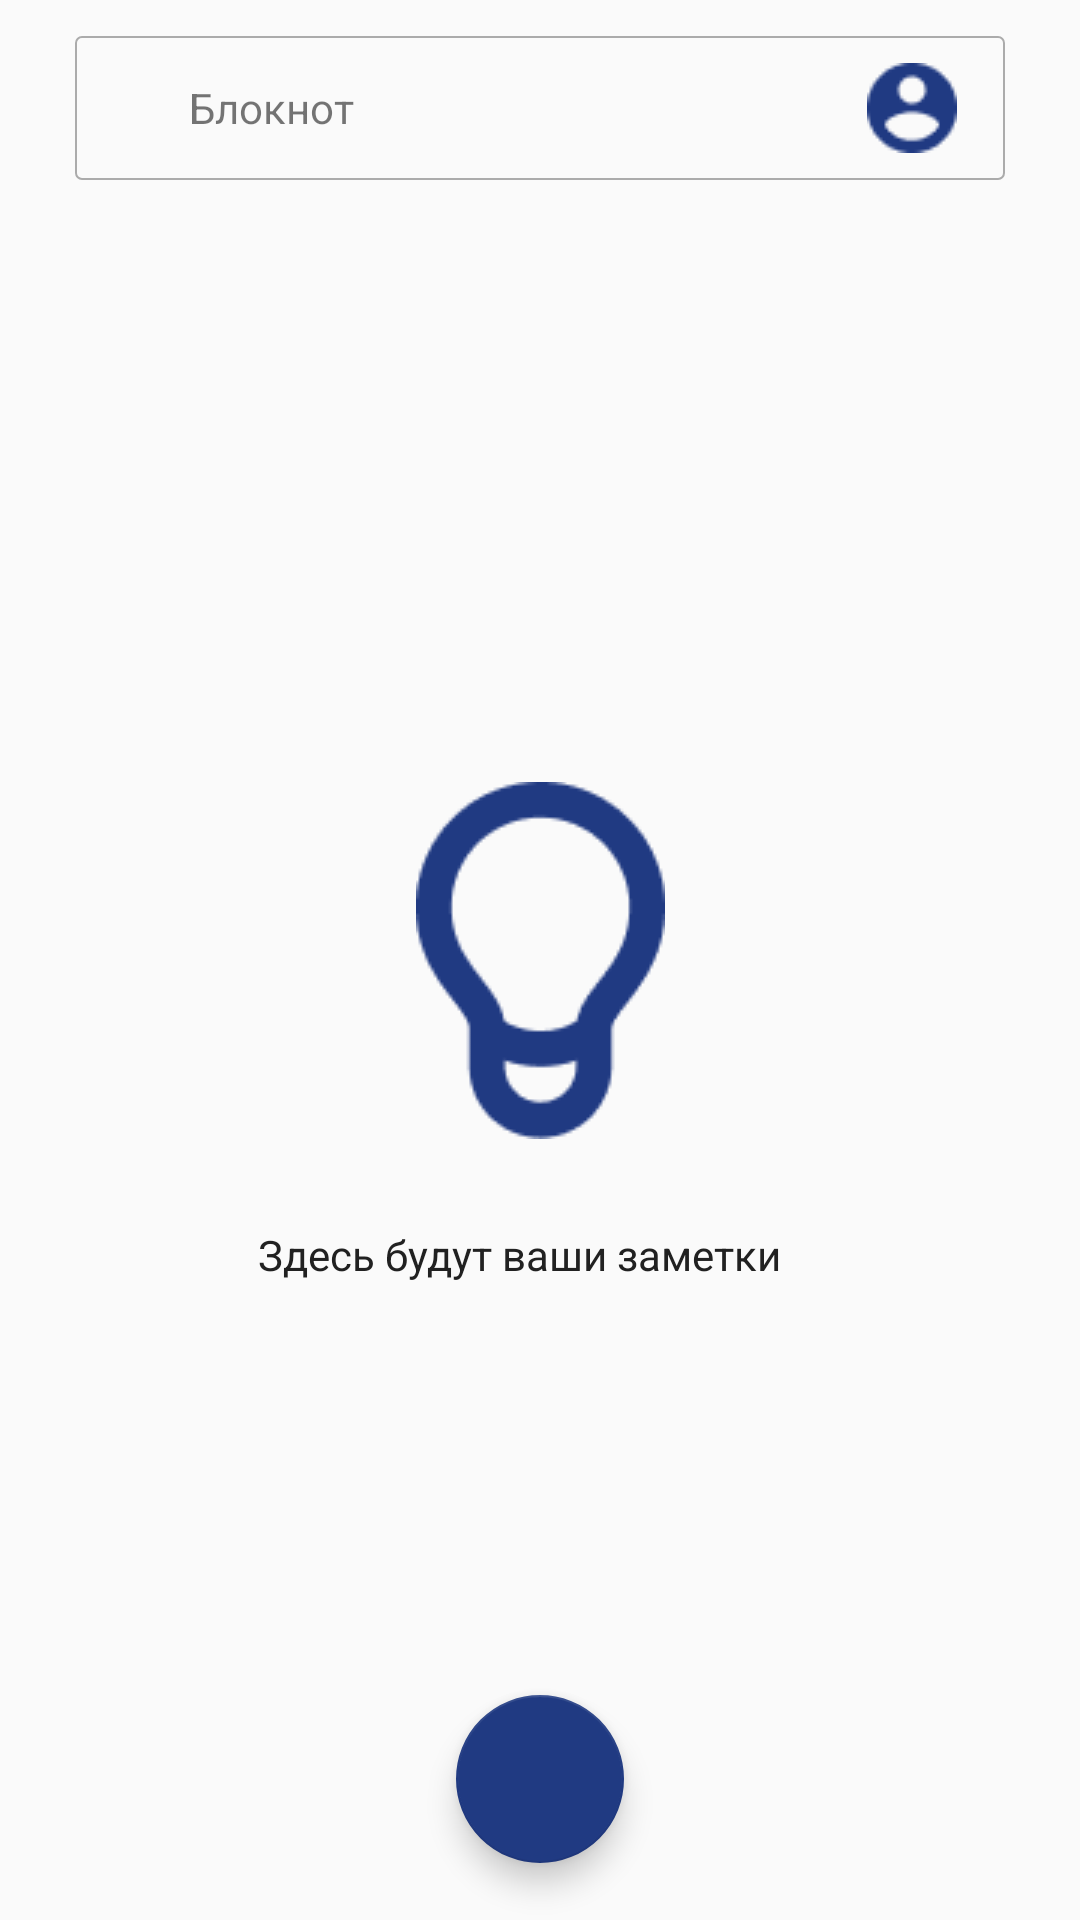

Icon bounding boxes for this 1080*1920 phone screenshot, format (x1, y1, x2, y2):
lamp: (416, 782, 665, 1139)
user: (867, 63, 957, 153)
